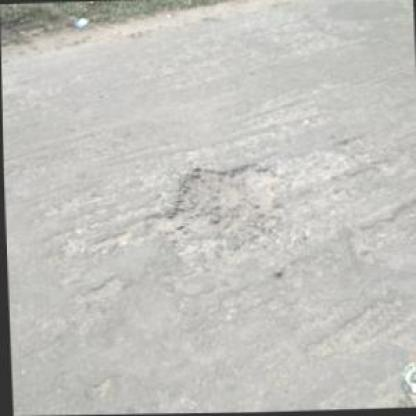pothole: (146, 158, 287, 243)
